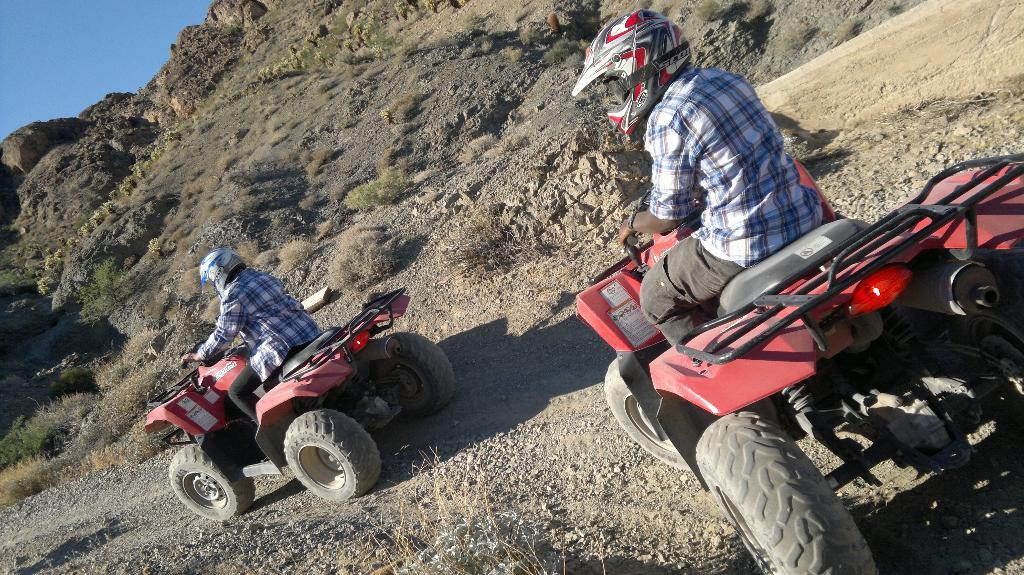helmet: (571, 8, 692, 137), (199, 246, 247, 302)
